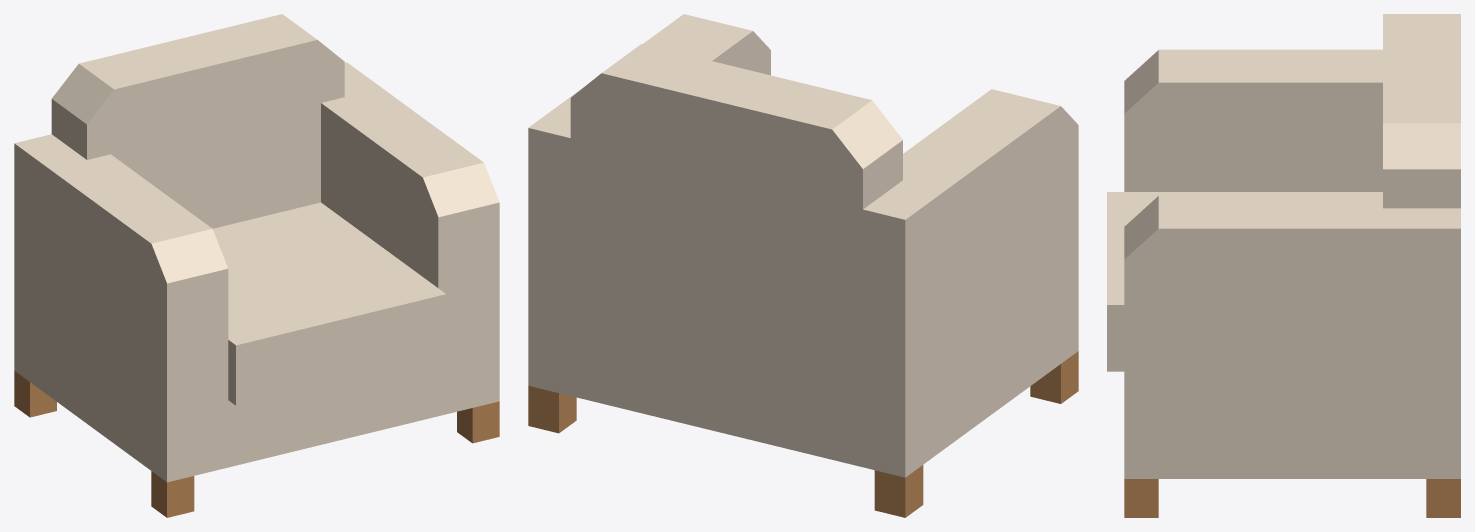
File: kitLoungeChair.glb
The picture shows the model from 3 angles, left to right: view 1: azimuth 30°, elevation 25°; view 2: azimuth 150°, elevation 25°; view 3: azimuth 270°, elevation 25°; orthographic projection. The views are drawn at different scales.
Visible parts, largest first — view 1: kitLoungeChair_fabric, kitLoungeChair_wood; view 2: kitLoungeChair_fabric, kitLoungeChair_wood; view 3: kitLoungeChair_fabric, kitLoungeChair_wood.
Boxes of the visible parts, bbox=[...] form: kitLoungeChair_fabric: bbox=[14, 14, 499, 482]; kitLoungeChair_wood: bbox=[14, 371, 499, 517]; kitLoungeChair_fabric: bbox=[528, 14, 1078, 477]; kitLoungeChair_wood: bbox=[528, 351, 1078, 517]; kitLoungeChair_fabric: bbox=[1107, 14, 1460, 478]; kitLoungeChair_wood: bbox=[1124, 479, 1460, 517].
Size of the model in its own units: 0.98 by 0.92 by 0.82.
